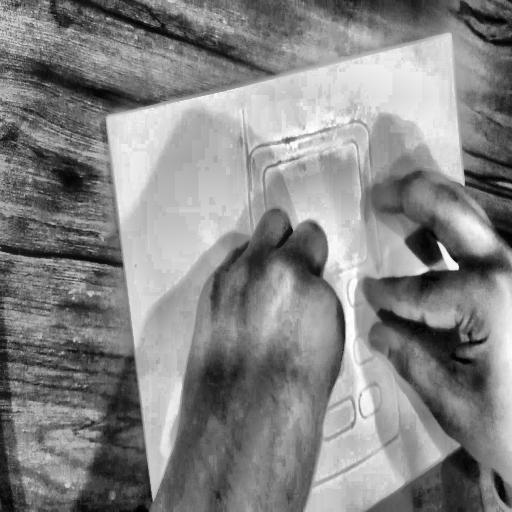mobile: (227, 69, 416, 512)
top_left: (105, 115, 111, 124)
top_right: (448, 31, 454, 40)
